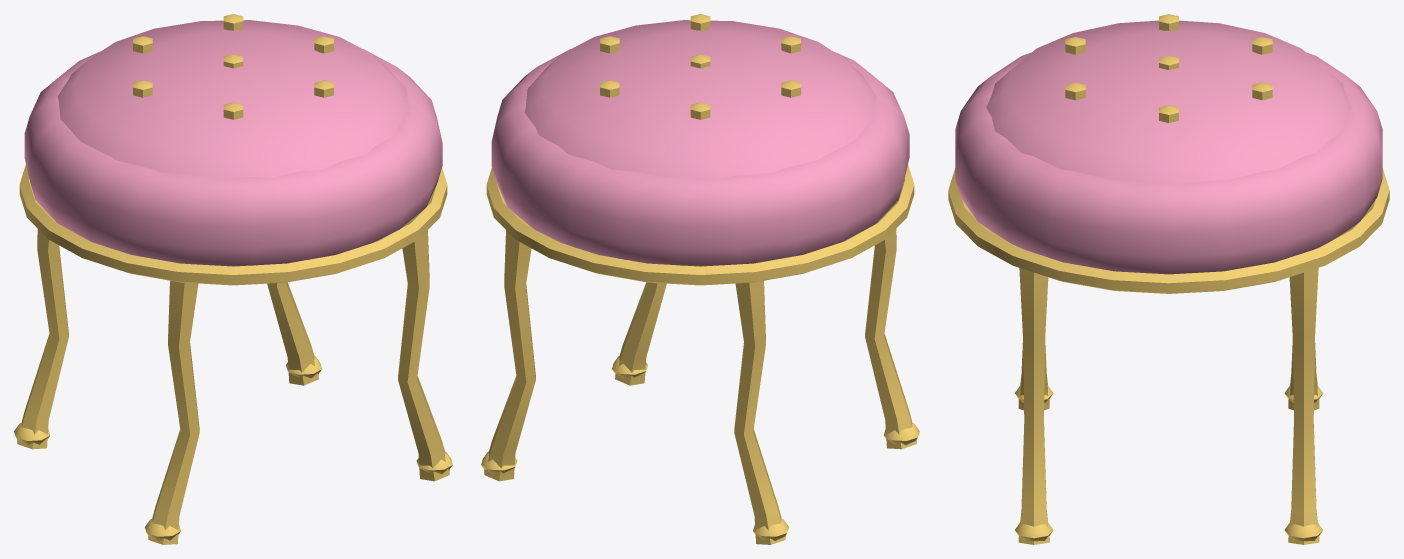
File: stool_tufted.glb
The picture shows the model from 3 angles, left to right: view 1: azimuth 30°, elevation 25°; view 2: azimuth 150°, elevation 25°; view 3: azimuth 270°, elevation 25°; orthographic projection. The views are drawn at different scales.
Parts seen in each view (by area): view 1: stool_tufted; view 2: stool_tufted; view 3: stool_tufted.
Part boxes in pixels (<box>): stool_tufted: <box>14,14,452,544</box>; stool_tufted: <box>481,14,919,544</box>; stool_tufted: <box>948,14,1389,544</box>.
Bounding box in the file's own units: 0.4908 × 0.5134 × 0.4908.
